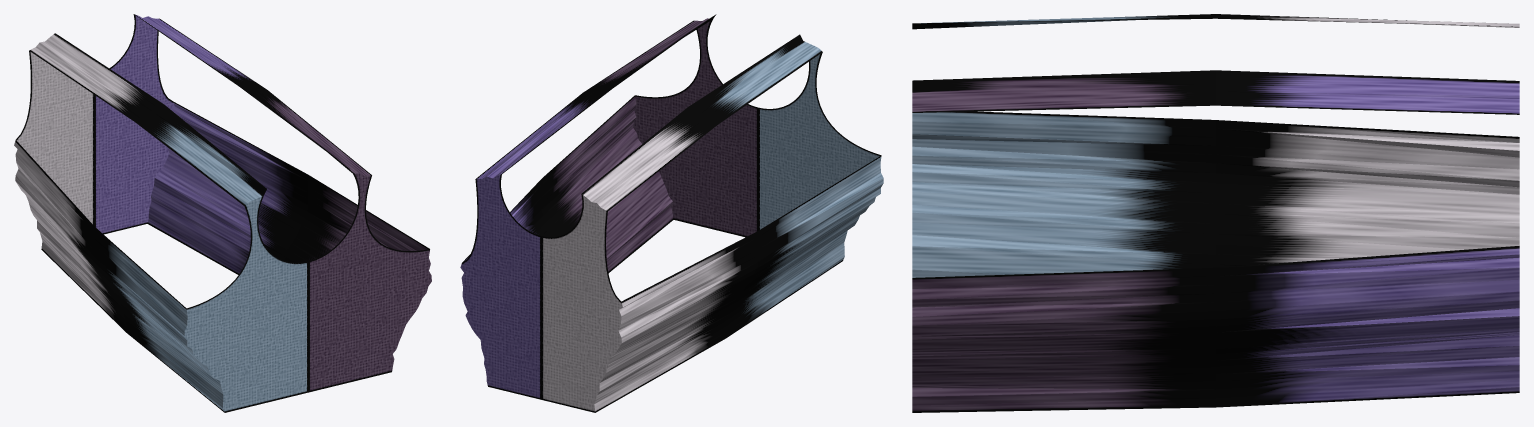
The model's file is tank_knit4_c50_boxmesh.obj.
3 renders of one model, left to right at view 1: azimuth 30°, elevation 25°; view 2: azimuth 150°, elevation 25°; view 3: azimuth 270°, elevation 25°, orthographic. The views are drawn at different scales.
Bounding box in the file's own units: 36.69 × 31.16 × 55.
Materials: 1 (1 with a texture image).
